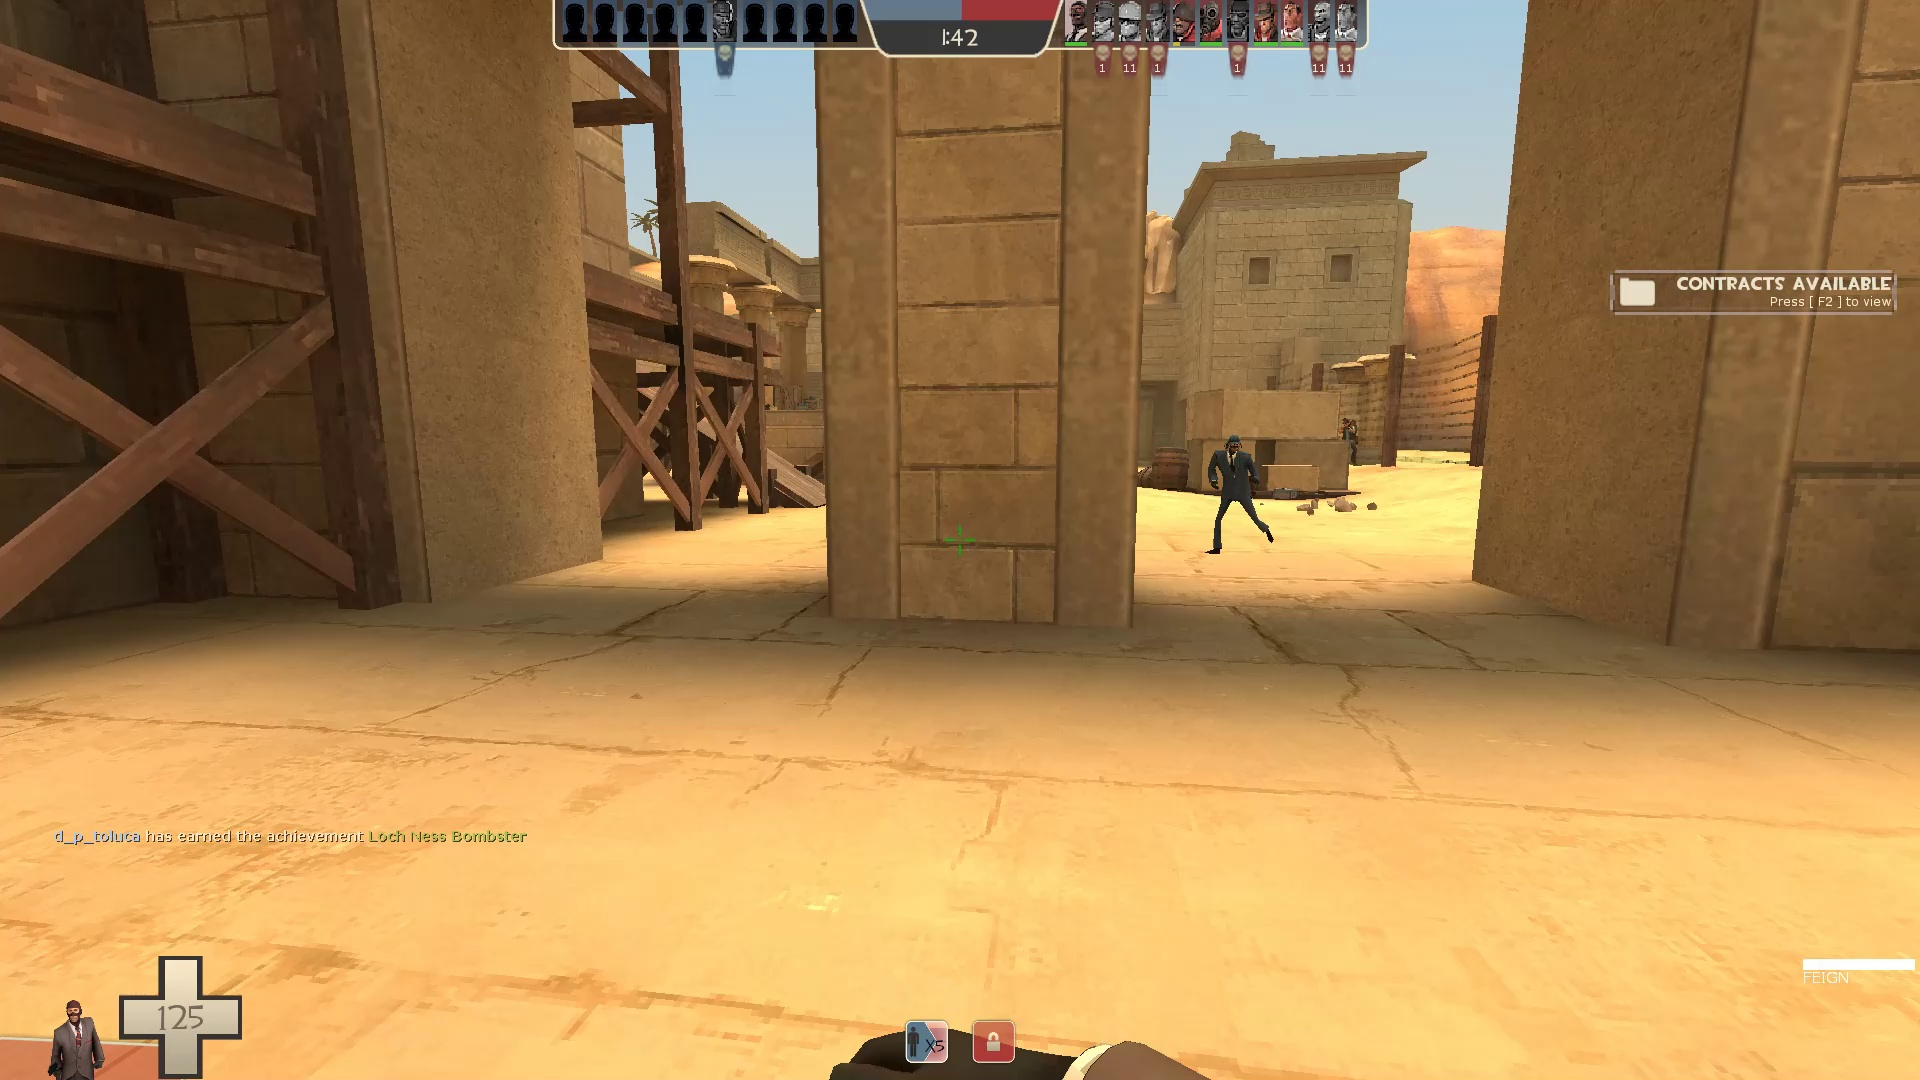blu_sniper: (1336, 415, 1364, 475)
blu_spy: (1197, 433, 1280, 563)
